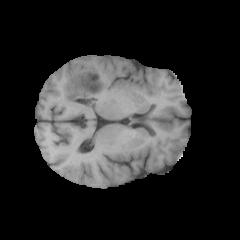glioma: (62, 64, 106, 104)
